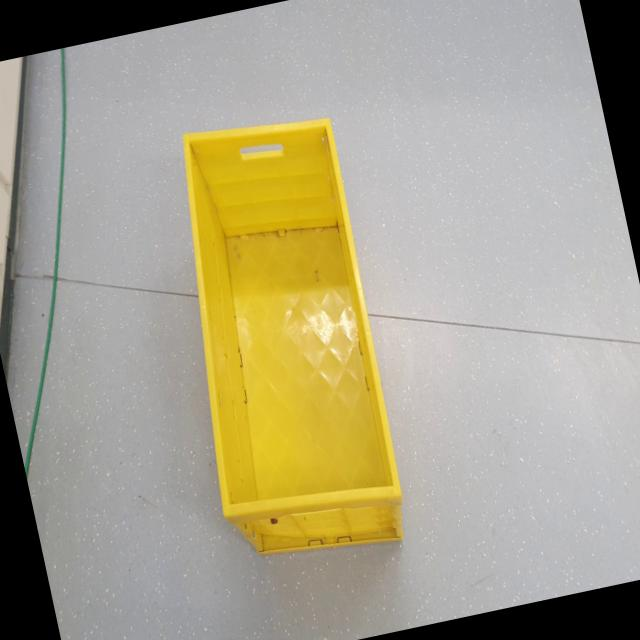box: (136, 83, 428, 592)
